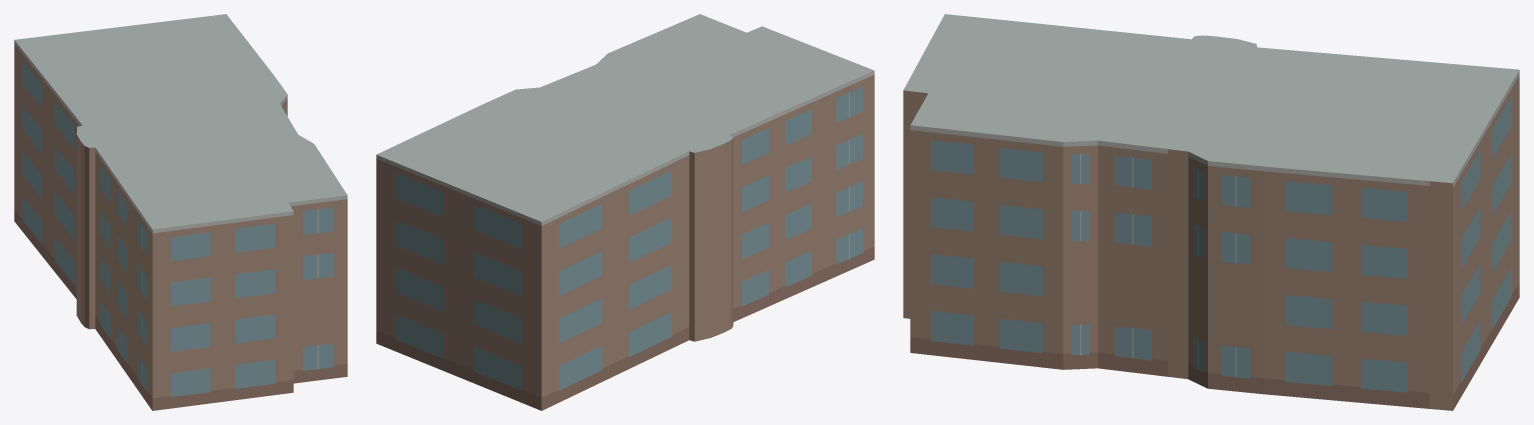
The model's file is survey-upis-33044237.glb.
3 renders of one model, left to right at view 1: azimuth 30°, elevation 25°; view 2: azimuth 150°, elevation 25°; view 3: azimuth 270°, elevation 25°, orthographic. The views are drawn at different scales.
Visible parts, largest first — view 1: survey-upis-33044237.tmp; view 2: survey-upis-33044237.tmp; view 3: survey-upis-33044237.tmp.
Boxes of the visible parts, <box> form: survey-upis-33044237.tmp: <box>14,14,347,410</box>; survey-upis-33044237.tmp: <box>376,14,874,410</box>; survey-upis-33044237.tmp: <box>903,14,1519,410</box>.
Size of the model in its own units: 18.42 by 11.55 by 28.35.
